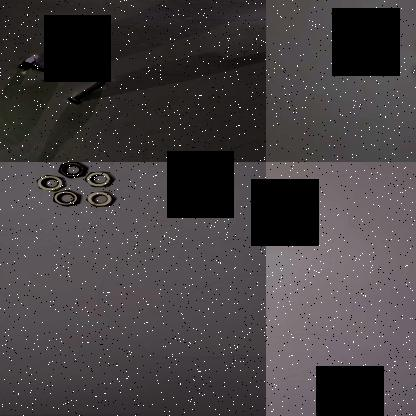Bolts: (13, 56, 68, 79), (66, 78, 107, 106)
NUTS: (82, 188, 118, 209), (80, 170, 118, 188), (52, 186, 83, 208), (32, 173, 66, 191), (56, 162, 90, 178)
